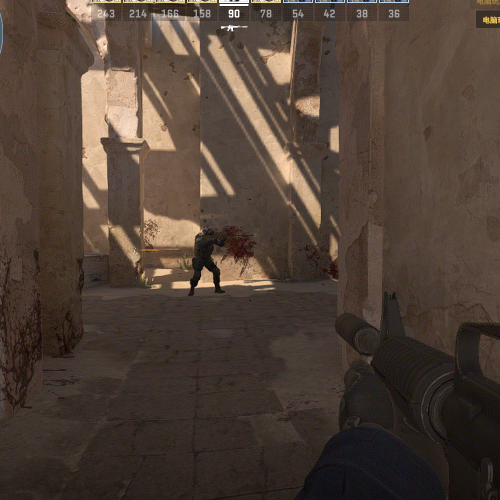ct_body: (189, 226, 226, 297)
ct_head: (202, 226, 215, 238)
